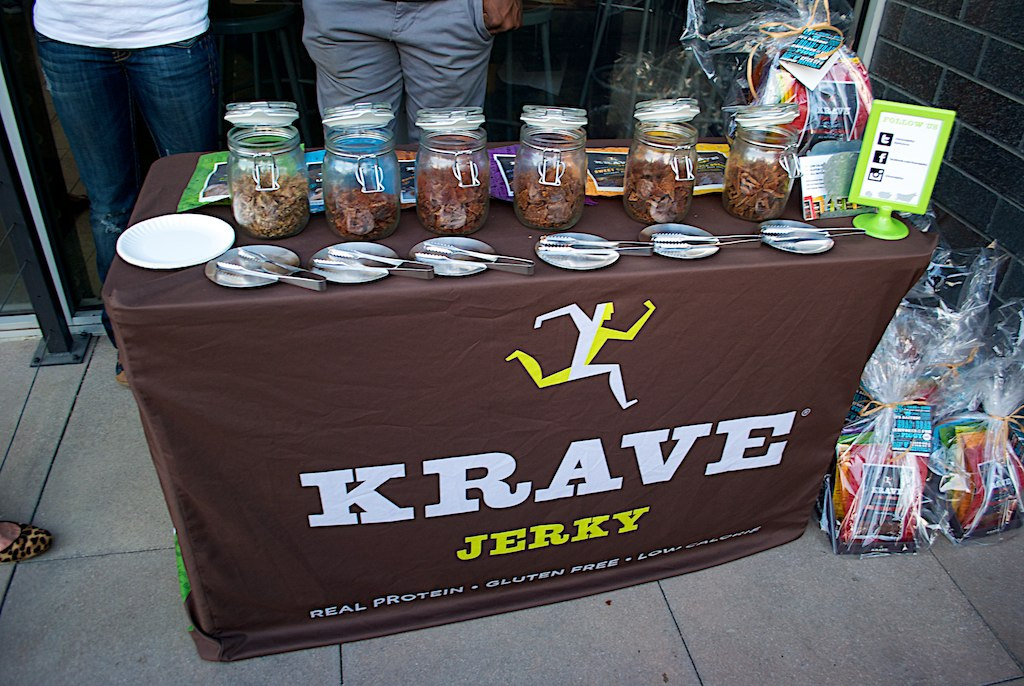plate: (103, 192, 222, 272)
